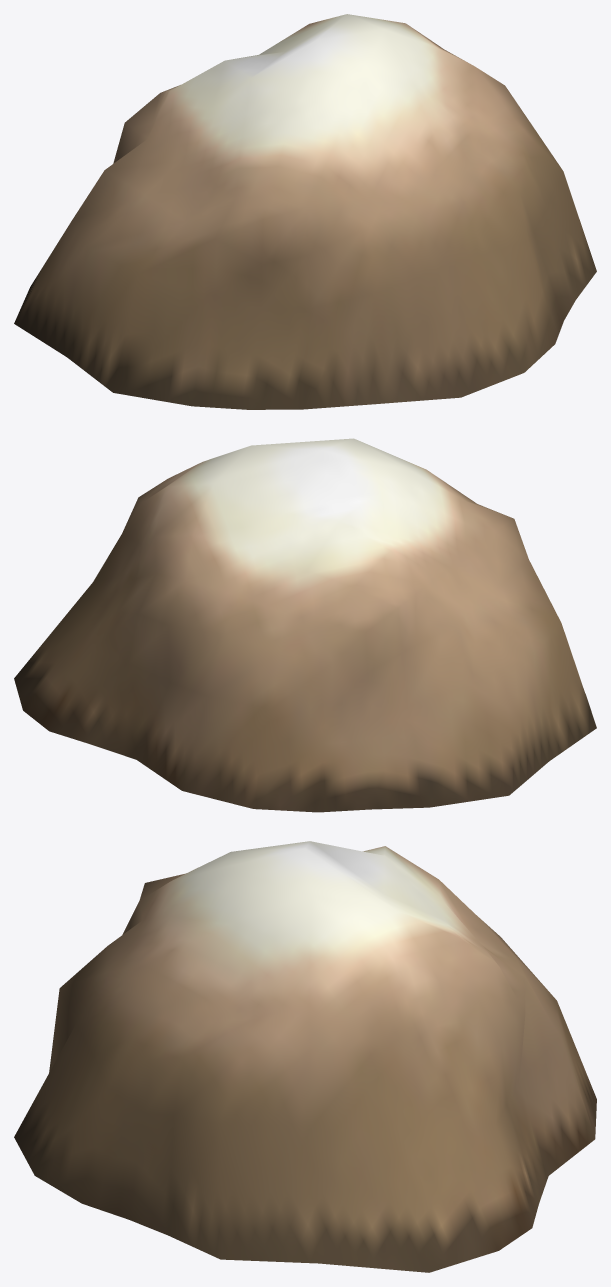
File: RocherA.FBX
3 views of the same model, one above another, from view 1: azimuth 30°, elevation 25°; view 2: azimuth 150°, elevation 25°; view 3: azimuth 270°, elevation 25° (orthographic). The views are drawn at different scales.
Parts seen in each view (by area): view 1: RocherA; view 2: RocherA; view 3: RocherA.
Part boxes in pixels (x1=…): RocherA: x1=14, y1=14, x2=596, y2=409; RocherA: x1=14, y1=438, x2=596, y2=812; RocherA: x1=14, y1=841, x2=596, y2=1272.
Bounding box in the file's own units: 1.54 × 0.7463 × 1.39.
